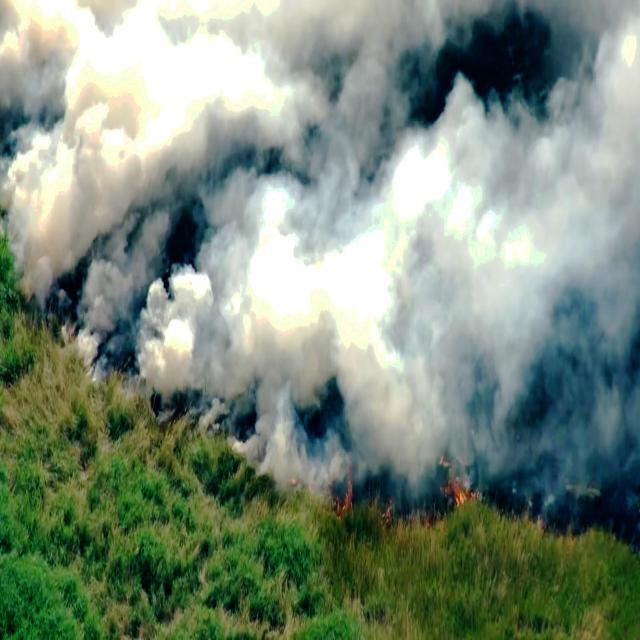Smoke: (126, 0, 510, 382), (0, 0, 207, 337), (464, 83, 640, 476)
